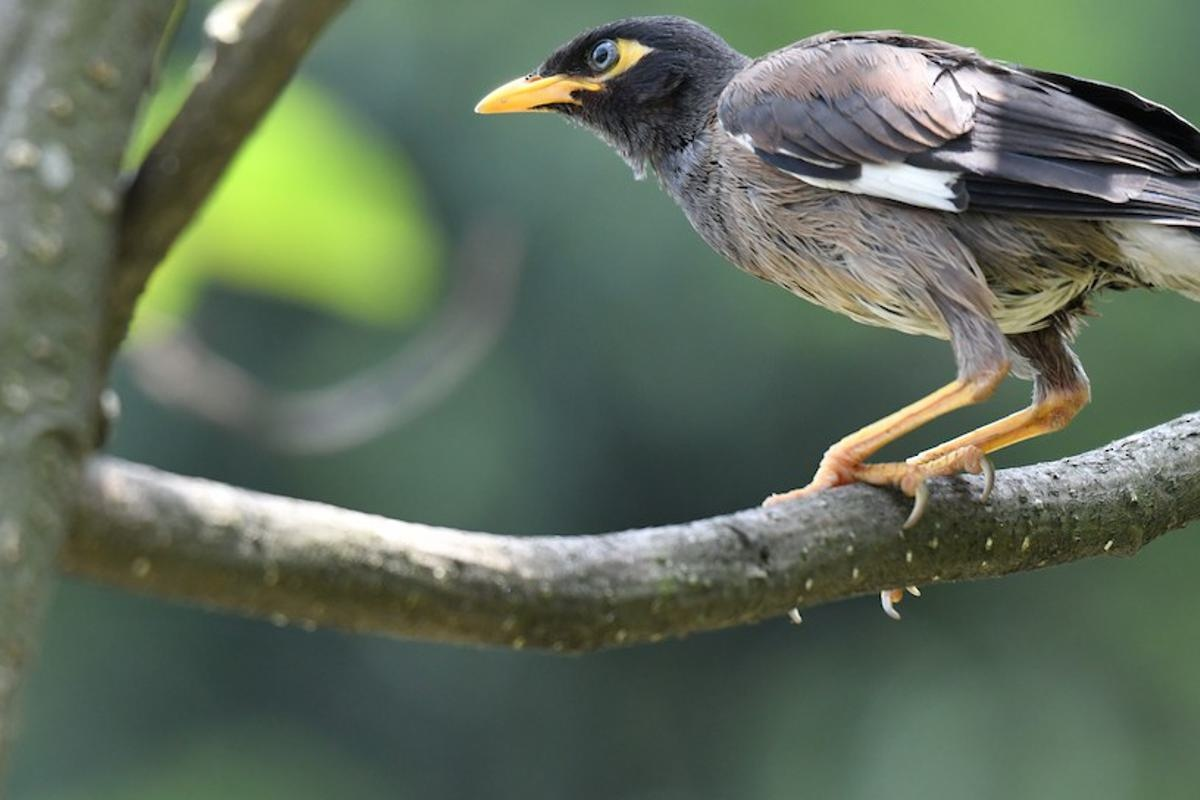myna: (461, 15, 1166, 490)
